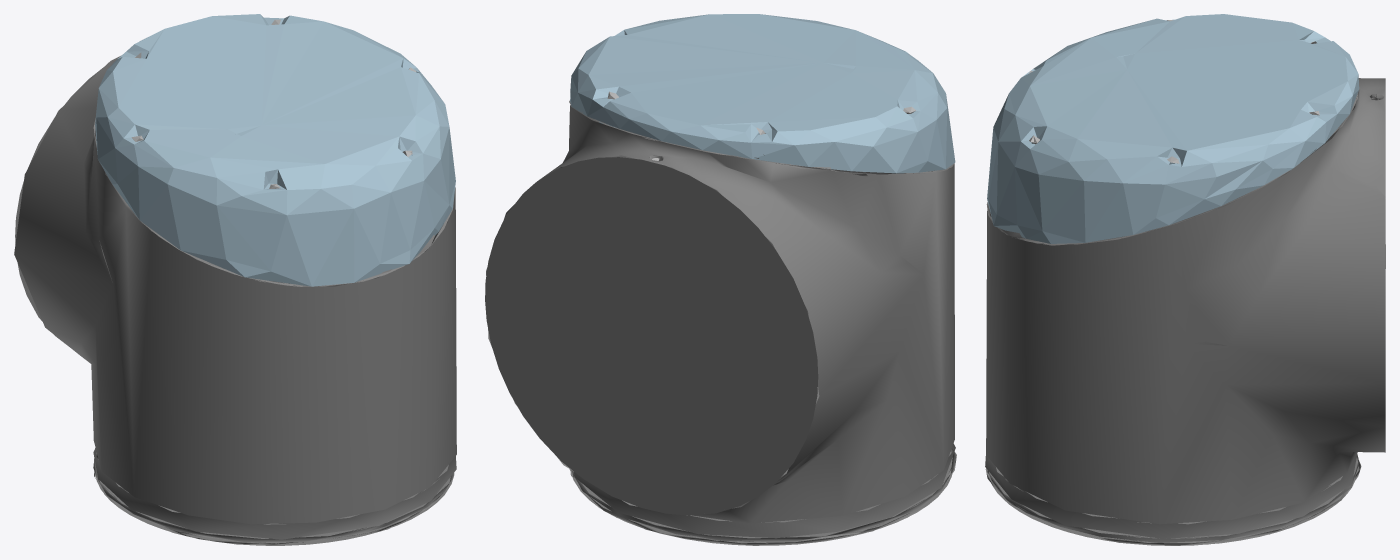
The model's file is shoulder.dae.
3 views of the same model, side by side, from view 1: azimuth 30°, elevation 25°; view 2: azimuth 150°, elevation 25°; view 3: azimuth 270°, elevation 25° (orthographic). The views are drawn at different scales.
Parts seen in each view (by area): view 1: node-shape0-name, node-shape1-name; view 2: node-shape0-name, node-shape1-name; view 3: node-shape0-name, node-shape1-name.
Part boxes in pixels (x1,y1,x2,y2): node-shape0-name: [14, 55, 456, 545]; node-shape1-name: [95, 14, 455, 286]; node-shape0-name: [485, 100, 956, 545]; node-shape1-name: [570, 14, 955, 173]; node-shape0-name: [985, 78, 1385, 545]; node-shape1-name: [987, 14, 1359, 243].
Bounding box in the file's own units: 0.151 × 0.1617 × 0.1771.
